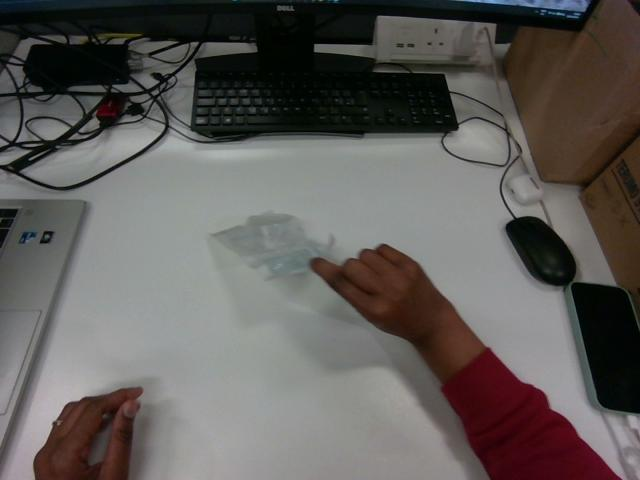gallipot: (213, 212, 333, 278)
